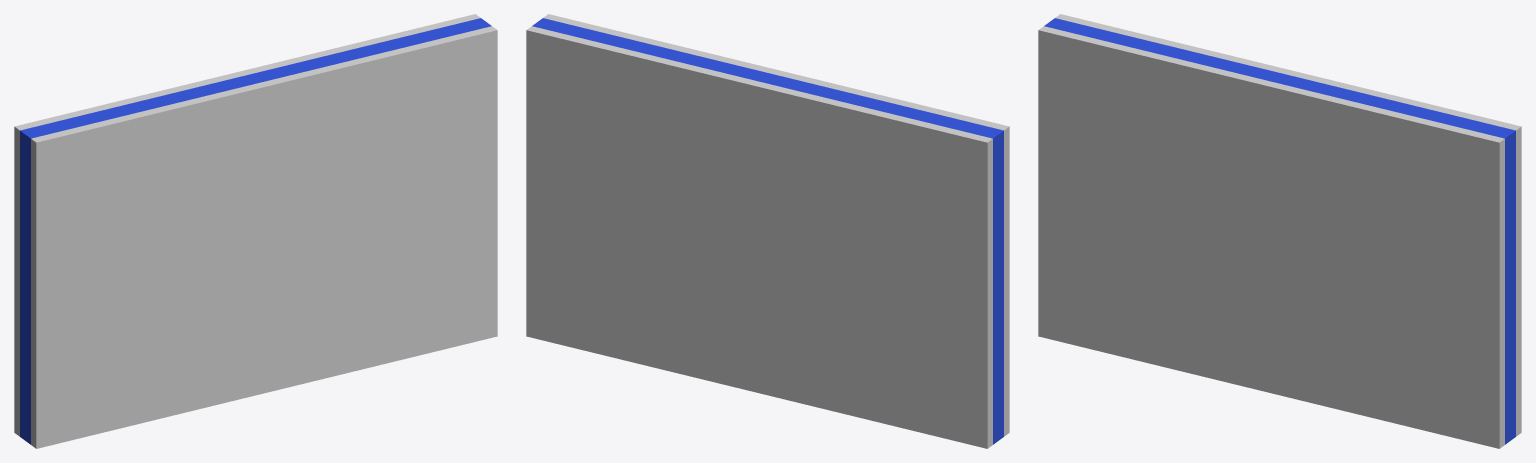
Rendered from wall middle.fbx.
3 views of the same model, side by side, from view 1: azimuth 30°, elevation 25°; view 2: azimuth 150°, elevation 25°; view 3: azimuth 330°, elevation 25° (orthographic).
Parts seen in each view (by area): view 1: Cube.007; view 2: Cube.007; view 3: Cube.007.
Boxes of the visible parts, x1,y1,x2,y2 form: Cube.007: [14, 14, 497, 448]; Cube.007: [526, 14, 1009, 448]; Cube.007: [1038, 14, 1521, 448].
Size of the model in its own units: 906 by 575 by 75.22.
